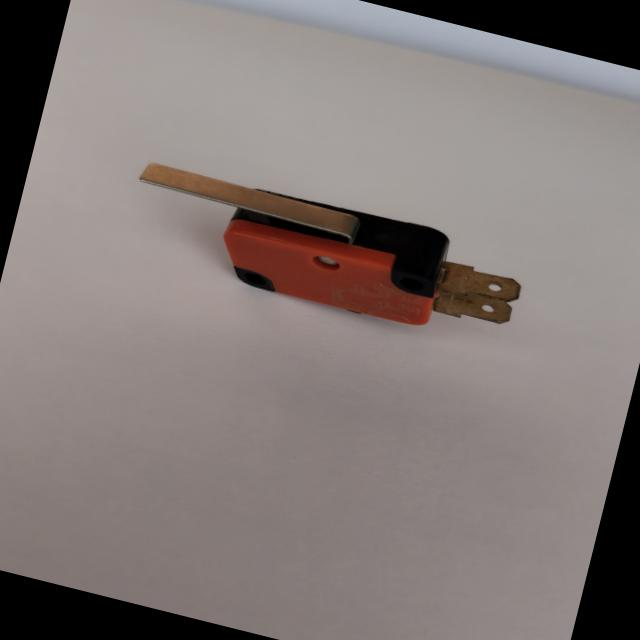switch: (103, 140, 554, 367)
